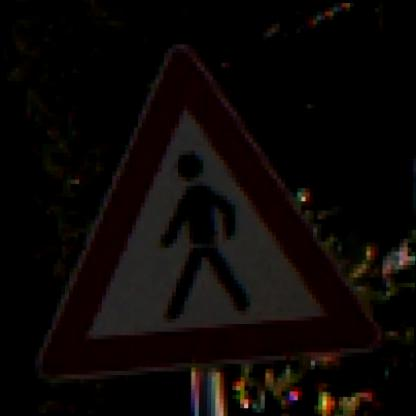crosswalk: (29, 29, 393, 391)
